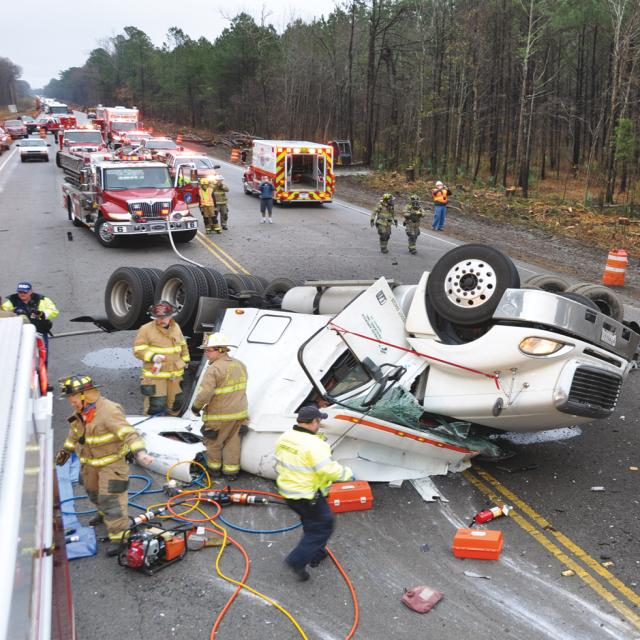crushed car: (151, 245, 639, 480)
